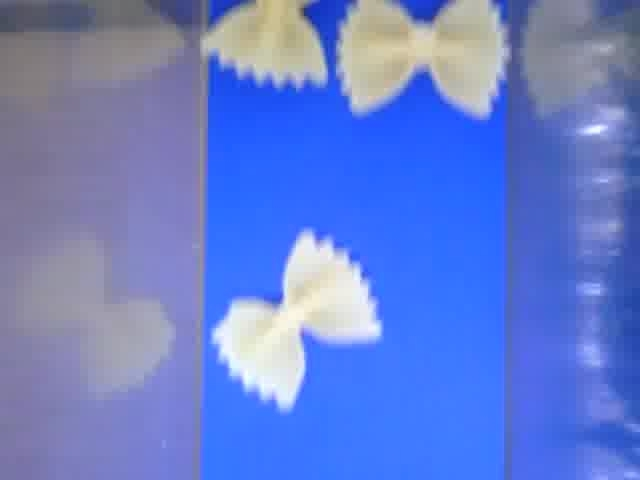farfalle: (211, 229, 386, 405), (335, 1, 510, 116), (204, 1, 325, 93)
